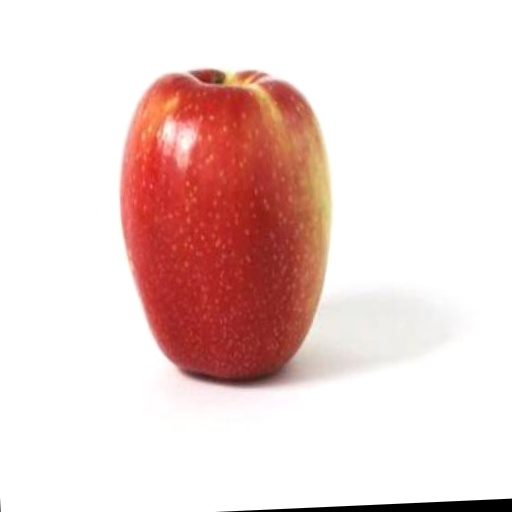fruit: (120, 70, 330, 378)
